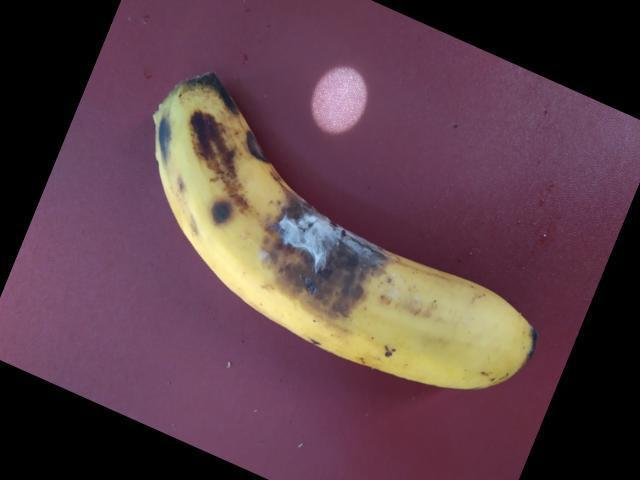ripe: (154, 79, 551, 430)
rotten: (249, 181, 394, 311)
